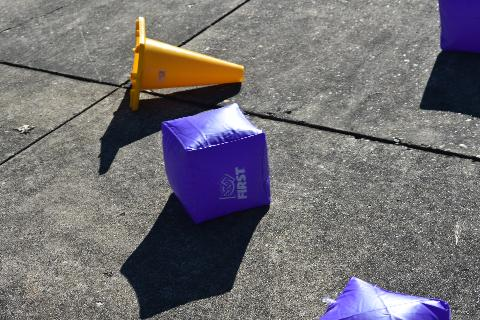cone: (129, 16, 245, 112)
cube: (161, 101, 271, 225), (318, 274, 450, 320), (438, 0, 480, 54)
